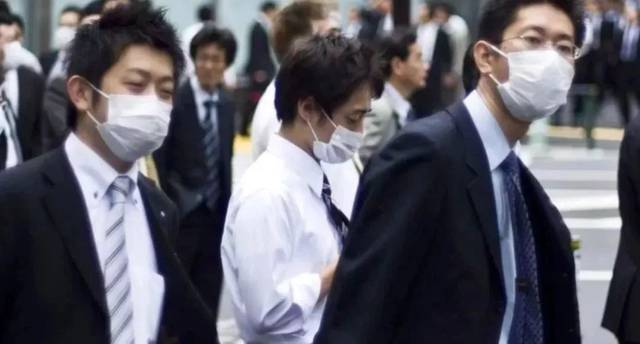mask: (83, 70, 193, 159), (491, 38, 585, 126)
